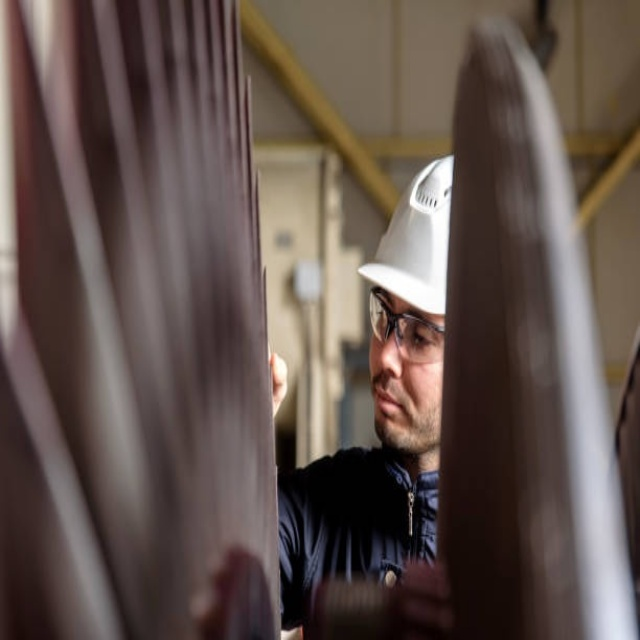Gafas: (369, 286, 445, 362)
Sin_mascara: (370, 373, 418, 445)
